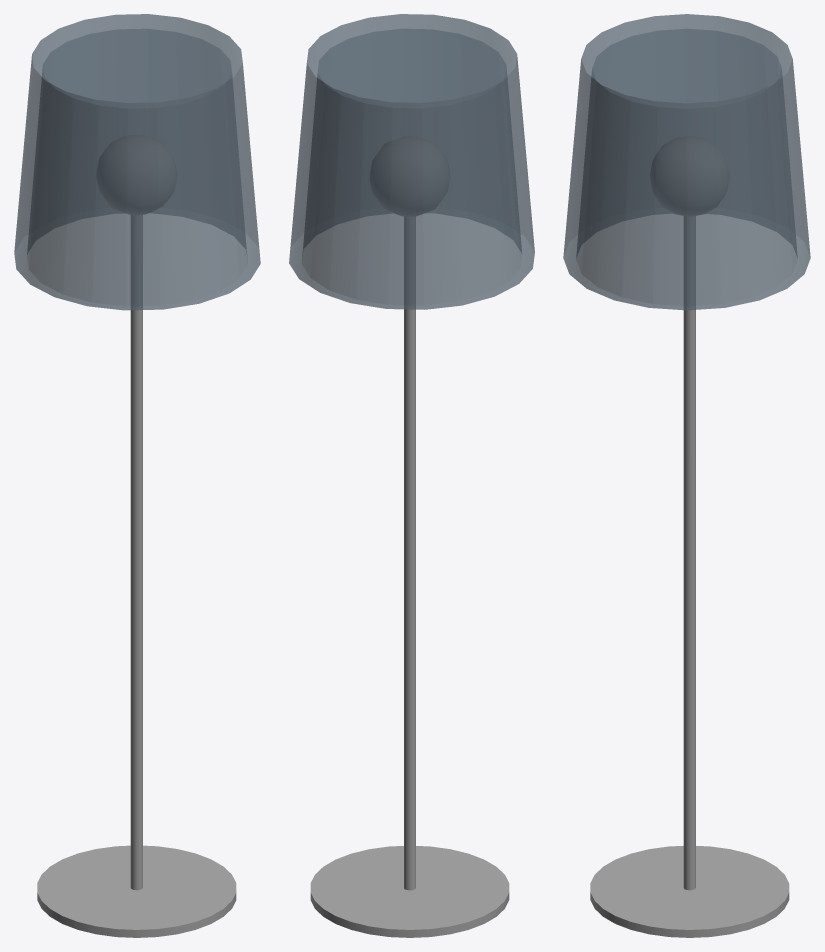
The model's file is Lamp.fbx.
The picture shows the model from 3 angles, left to right: view 1: azimuth 30°, elevation 25°; view 2: azimuth 150°, elevation 25°; view 3: azimuth 270°, elevation 25°; orthographic projection.
Visible parts, largest first — view 1: geoLampShade, geoLampBase, geoLightBulb; view 2: geoLampShade, geoLampBase, geoLightBulb; view 3: geoLampShade, geoLampBase, geoLightBulb.
Boxes of the visible parts, x1,y1,x2,y2 form: geoLampShade: [14, 14, 260, 310]; geoLampBase: [37, 215, 236, 937]; geoLightBulb: [96, 135, 176, 214]; geoLampShade: [289, 14, 534, 309]; geoLampBase: [310, 216, 509, 937]; geoLightBulb: [370, 136, 449, 216]; geoLampShade: [563, 14, 810, 310]; geoLampBase: [590, 216, 789, 937]; geoLightBulb: [650, 136, 729, 216].
Size of the model in its own units: 50.01 by 192 by 50.01.
